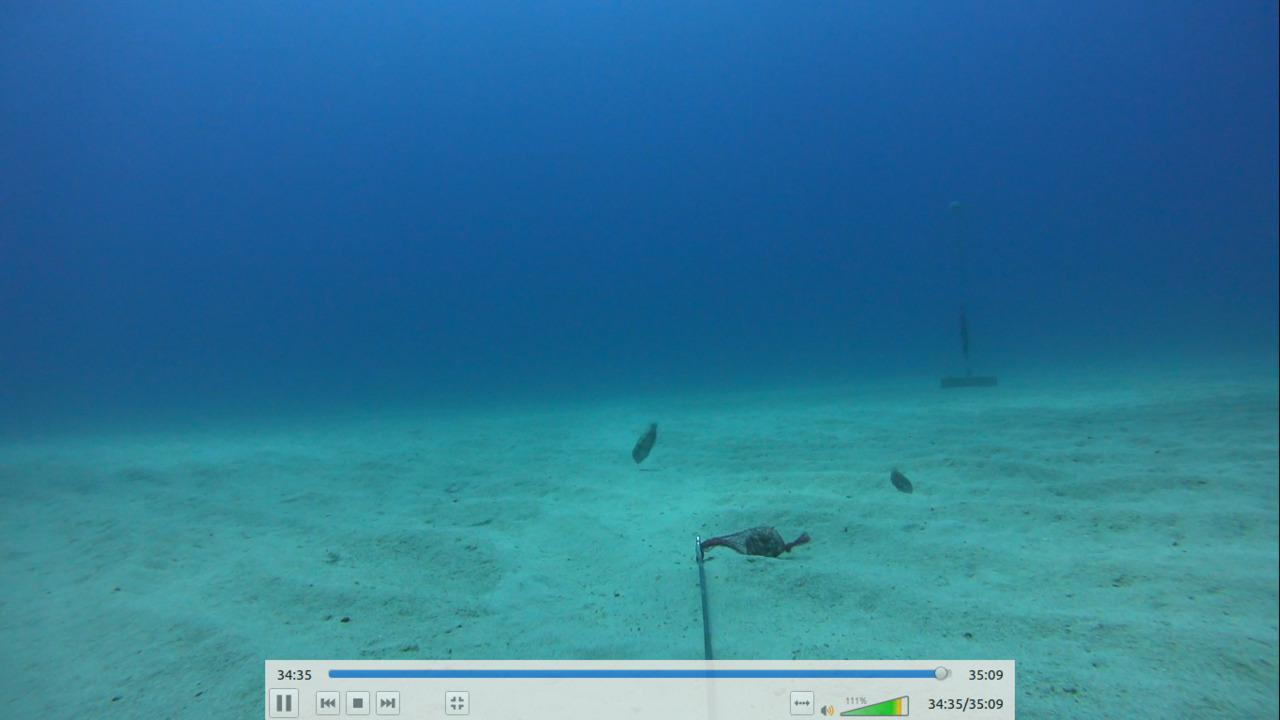raor: (623, 415, 669, 471), (872, 455, 920, 497)
